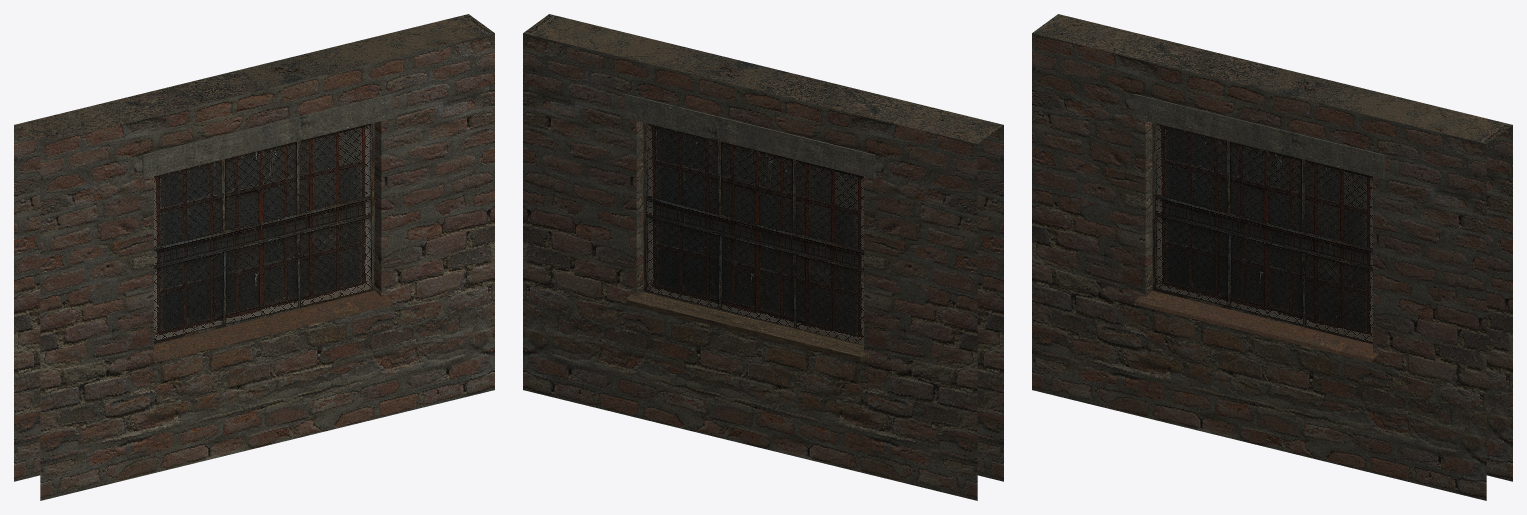
The model's file is window_hr_2.glb.
The picture shows the model from 3 angles, left to right: view 1: azimuth 30°, elevation 25°; view 2: azimuth 150°, elevation 25°; view 3: azimuth 330°, elevation 25°; orthographic projection.
Parts seen in each view (by area): view 1: window_hr_2; view 2: window_hr_2; view 3: window_hr_2.
Boxes of the visible parts, bbox=[...] form: window_hr_2: bbox=[14, 14, 494, 500]; window_hr_2: bbox=[523, 14, 1003, 500]; window_hr_2: bbox=[1032, 14, 1512, 500].
Size of the model in its own units: 4 by 3 by 0.595.
6 materials, 6 textured.
